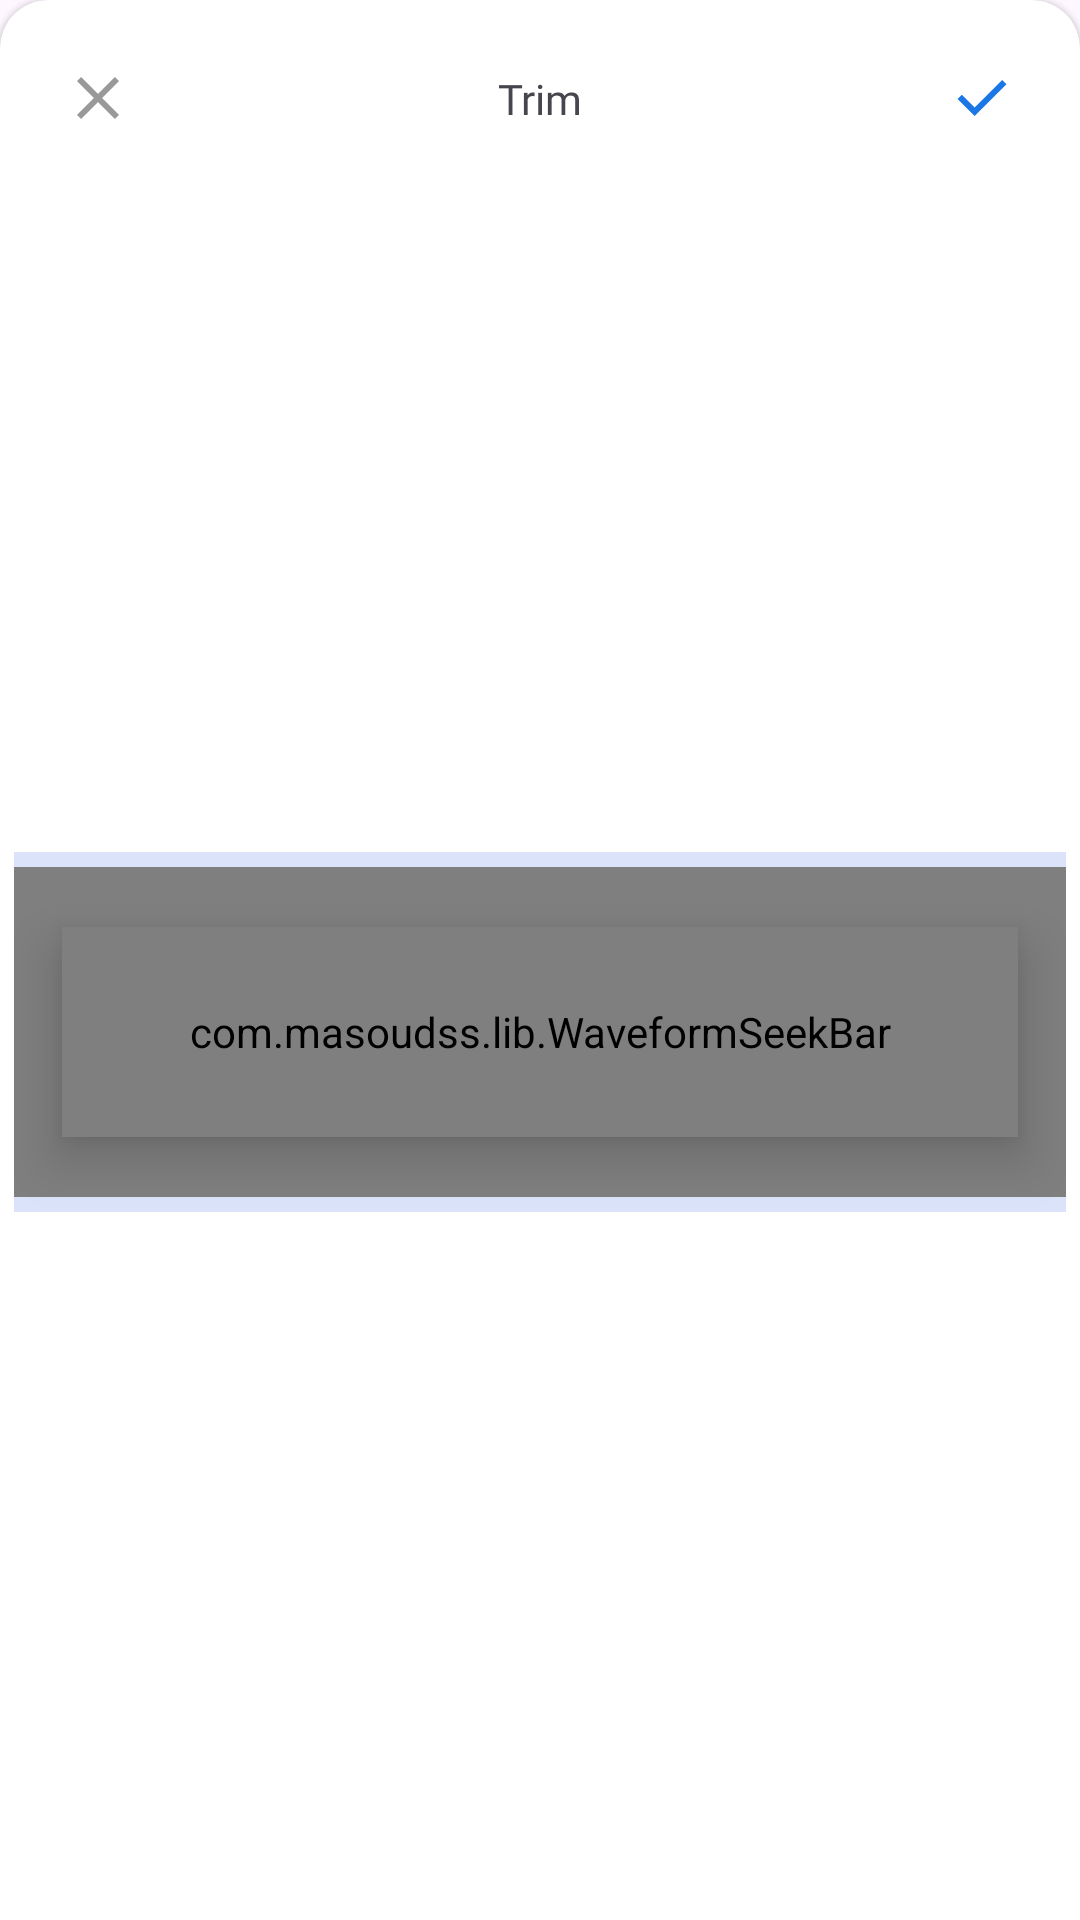

Point at icon controls on the screen. Image size 1080×1920, points as [x,y].
cross: [98,98]
tick: [982,98]
